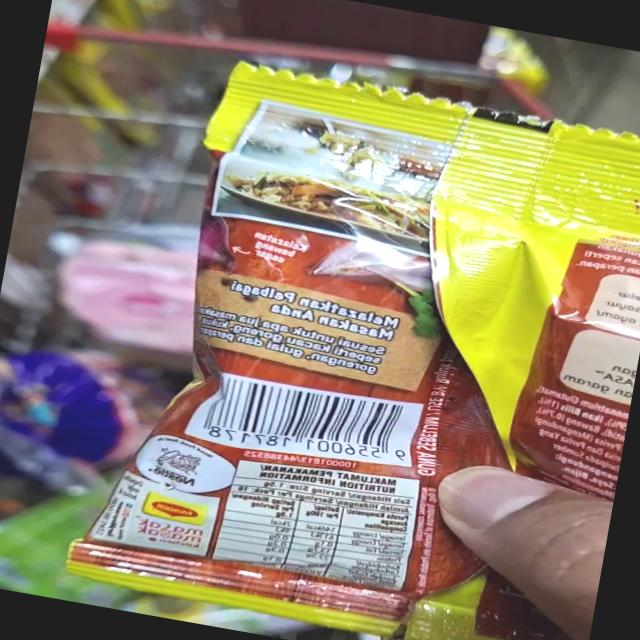Maggi Cukup Rasa: (57, 45, 640, 640)
